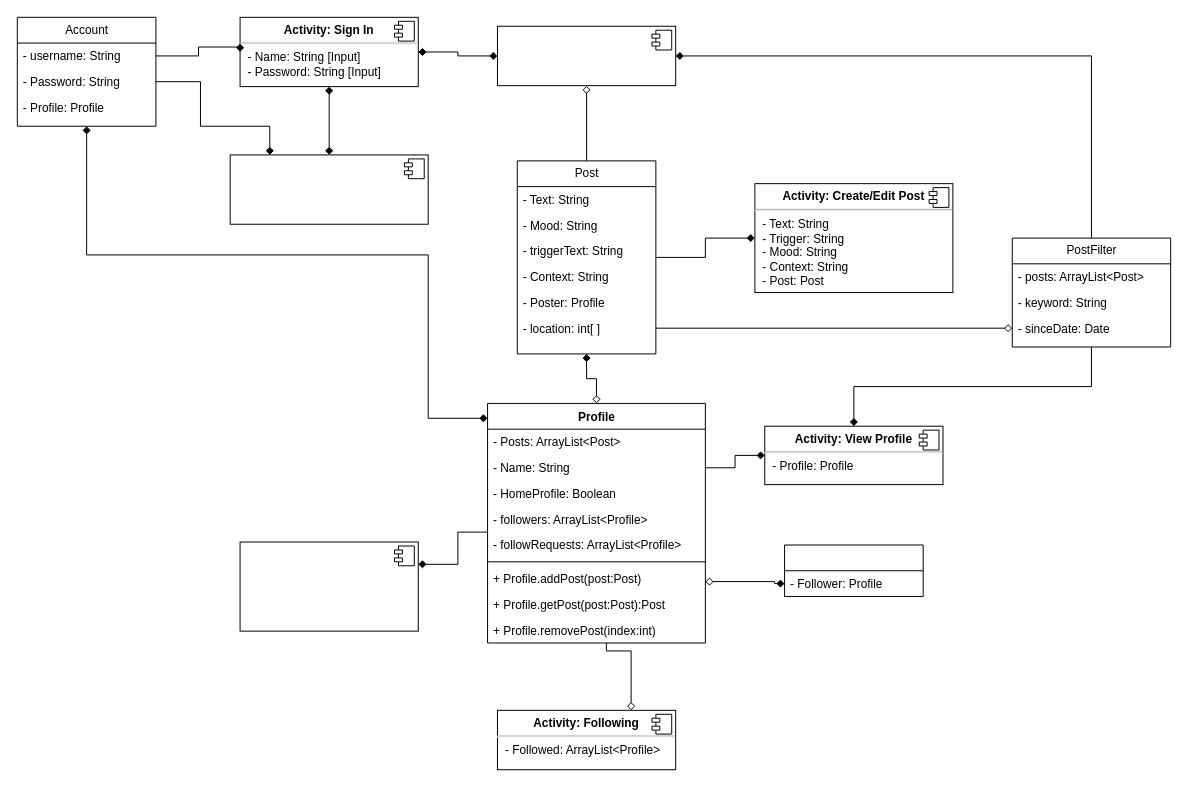
This 1188x787 diagram has some shape labels left out. The box of each missing label's shape, as (x1, y1, x2, y2) in pixels:
Activity: Create Account - Name: String [Input] - Password: String [Input]: (229, 154, 428, 224)
Activity: Edit Profile - Name: String - Password: String - Profile: Profile: (239, 541, 418, 631)
Activity: News Feed - Posts: ArrayList<Post>: (496, 25, 676, 86)
FollowRequest: (784, 544, 923, 596)
